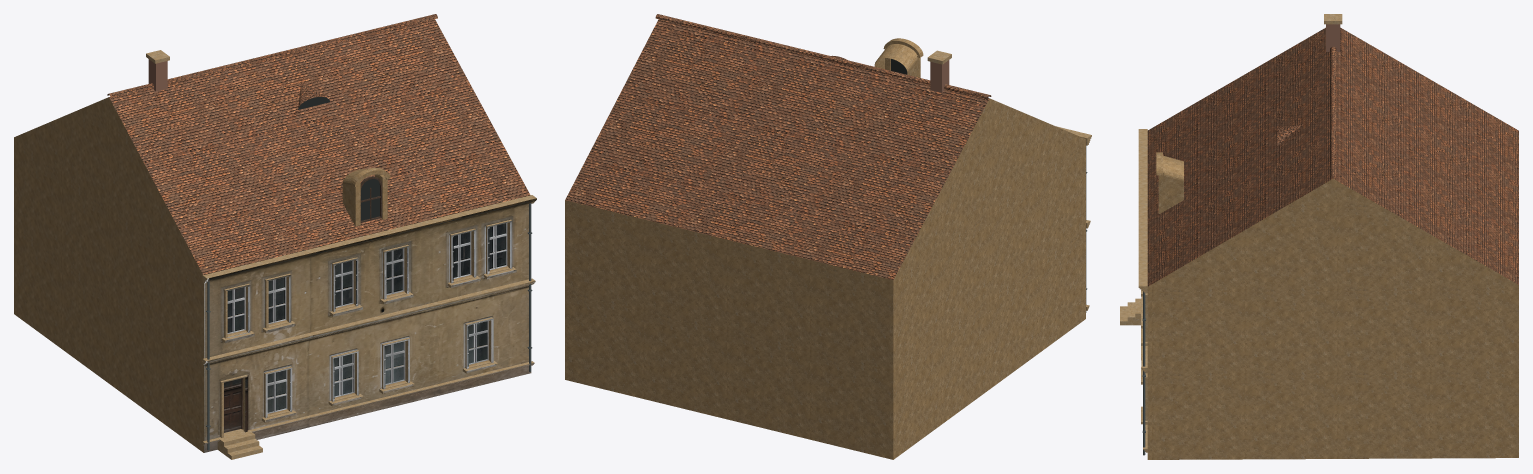
3 renders of one model, left to right at view 1: azimuth 30°, elevation 25°; view 2: azimuth 150°, elevation 25°; view 3: azimuth 270°, elevation 25°, orthographic. The views are drawn at different scales.
Parts seen in each view (by area): view 1: CP_261_Roof, CP_261_Masonry_With_Openings, CP_261_Frames_Sills_And_Cornices, CP_261_Individual_Photographic_Panes, CP_261_Timber_Frames, CP_261_Roof_Dormers, CP_261_Metal_Gutters_And_Downpipes, CP_261_Entrance_Three_Steps_PROVISIONAL, CP_261_Glazing_And_Doors, CP_261_Chimney, CP_261_Dormer_Glass; view 2: CP_261_Masonry_With_Openings, CP_261_Roof, CP_261_Roof_Dormers, CP_261_Chimney; view 3: CP_261_Roof, CP_261_Masonry_With_Openings, CP_261_Frames_Sills_And_Cornices, CP_261_Roof_Dormers, CP_261_Chimney, CP_261_Entrance_Three_Steps_PROVISIONAL, CP_261_Metal_Gutters_And_Downpipes.
Part boxes in pixels (x1,y1,x2,y2): CP_261_Roof: (14, 14, 530, 275); CP_261_Masonry_With_Openings: (14, 137, 531, 452); CP_261_Frames_Sills_And_Cornices: (202, 195, 536, 445); CP_261_Individual_Photographic_Panes: (227, 223, 505, 412); CP_261_Timber_Frames: (227, 223, 507, 429); CP_261_Roof_Dormers: (342, 168, 390, 226); CP_261_Metal_Gutters_And_Downpipes: (206, 200, 534, 450); CP_261_Entrance_Three_Steps_PROVISIONAL: (217, 429, 262, 459); CP_261_Glazing_And_Doors: (224, 378, 241, 432); CP_261_Chimney: (146, 50, 169, 91); CP_261_Dormer_Glass: (361, 179, 379, 220); CP_261_Masonry_With_Openings: (565, 139, 1085, 459); CP_261_Roof: (565, 14, 1085, 280); CP_261_Roof_Dormers: (874, 38, 923, 77); CP_261_Chimney: (927, 50, 951, 92); CP_261_Roof: (1147, 27, 1518, 286); CP_261_Masonry_With_Openings: (1147, 285, 1518, 459); CP_261_Frames_Sills_And_Cornices: (1138, 129, 1147, 452); CP_261_Roof_Dormers: (1156, 152, 1183, 213); CP_261_Chimney: (1324, 14, 1342, 51); CP_261_Entrance_Three_Steps_PROVISIONAL: (1120, 298, 1141, 325); CP_261_Metal_Gutters_And_Downpipes: (1142, 291, 1145, 455).
Bounding box in the file's own units: 13.85 × 12.7 × 14.82.
11 materials, 8 textured.
